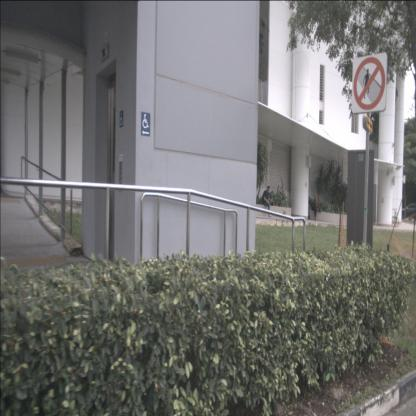human-pedestrian-adult: (262, 185, 272, 218), (311, 194, 321, 222), (305, 195, 311, 221)
vehicle-bicycle: (385, 210, 397, 226), (391, 207, 399, 228)
vehicle-car: (401, 202, 415, 220)
